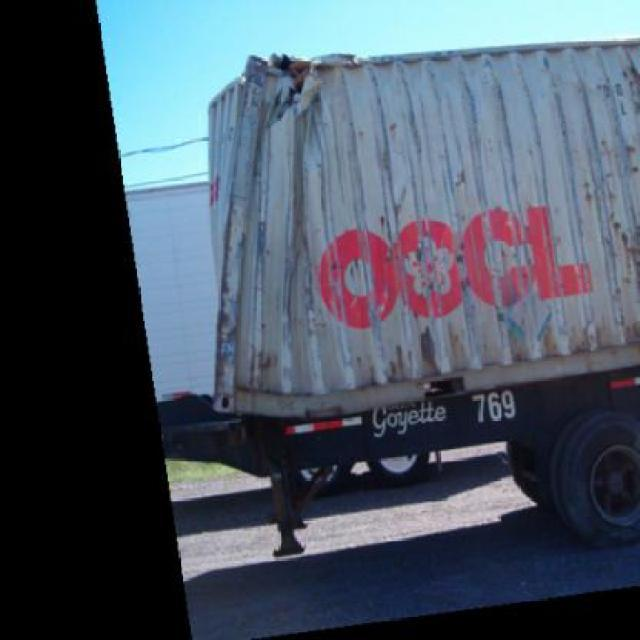hole: (236, 46, 365, 157)
rust: (598, 44, 640, 346), (365, 308, 491, 386)
